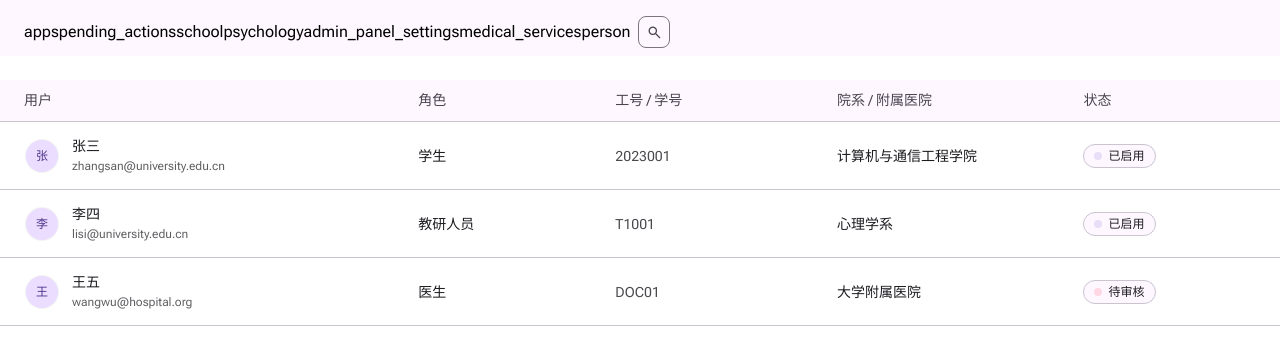
Test case: UserManagementView Component › expands search bar and filters users by keyword
# Click search icon button to expand
Click the button named "展开搜索" at (654, 32), box [638,16,670,48]
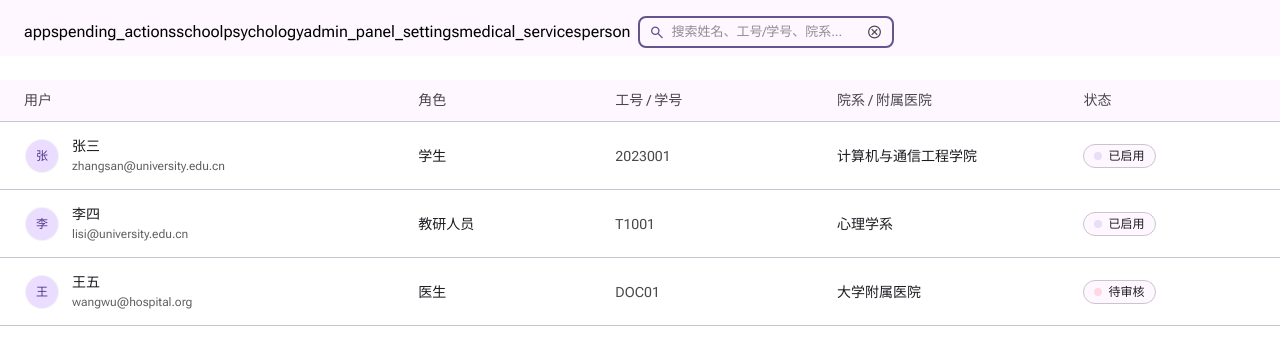
Expected: the field with placeholder "搜索姓名、工号/学号、院系..." is shown
# Type query matching 张三's student ID
Type "2023001" into the field with placeholder "搜索姓名、工号/学号、院系..." at (765, 32), box [672,22,858,42]
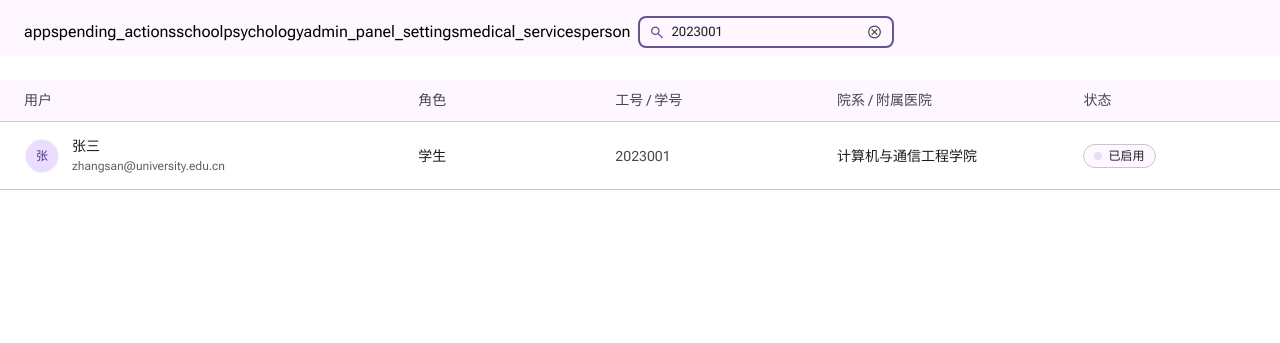
Expected: the text "张三" is shown, [72,138,100,154]
Expected: the text "李四" is gone
Expected: the text "王五" is gone
# Clear search using clear button
Click the button named "清除搜索" at (874, 32), box [864,22,884,42]
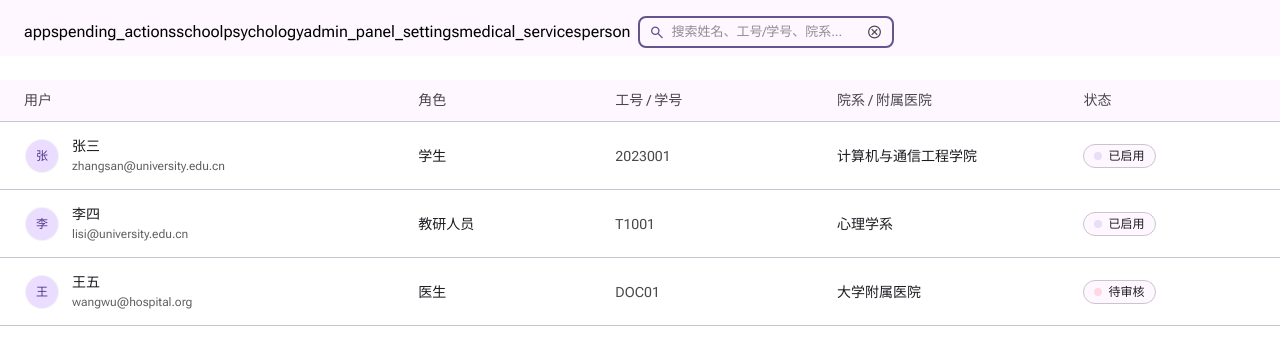
Expected: the text "张三" is shown, [72,138,100,154]
Expected: the text "李四" is shown, [72,206,100,222]
Expected: the text "王五" is shown, [72,274,100,290]
